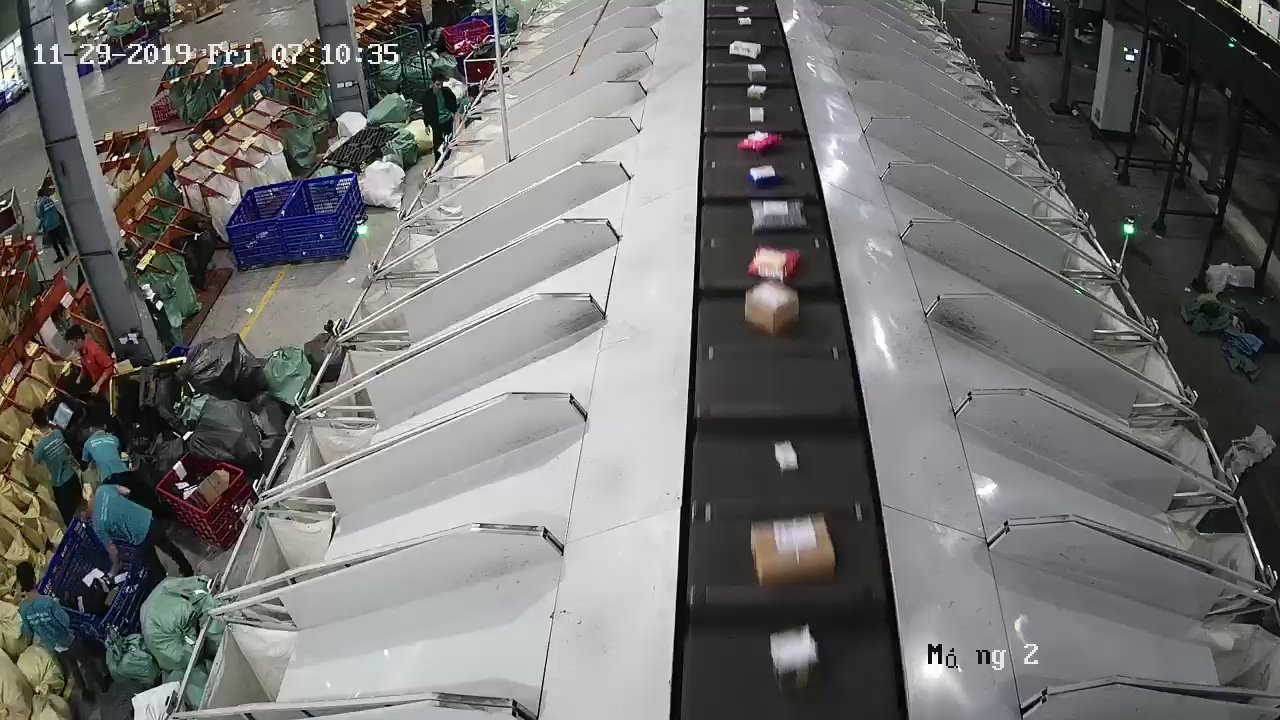parcel: (751, 512, 836, 588), (770, 623, 819, 693), (744, 279, 800, 338), (749, 198, 810, 235), (747, 244, 803, 283), (736, 130, 784, 153), (746, 164, 786, 188), (774, 440, 798, 472)
